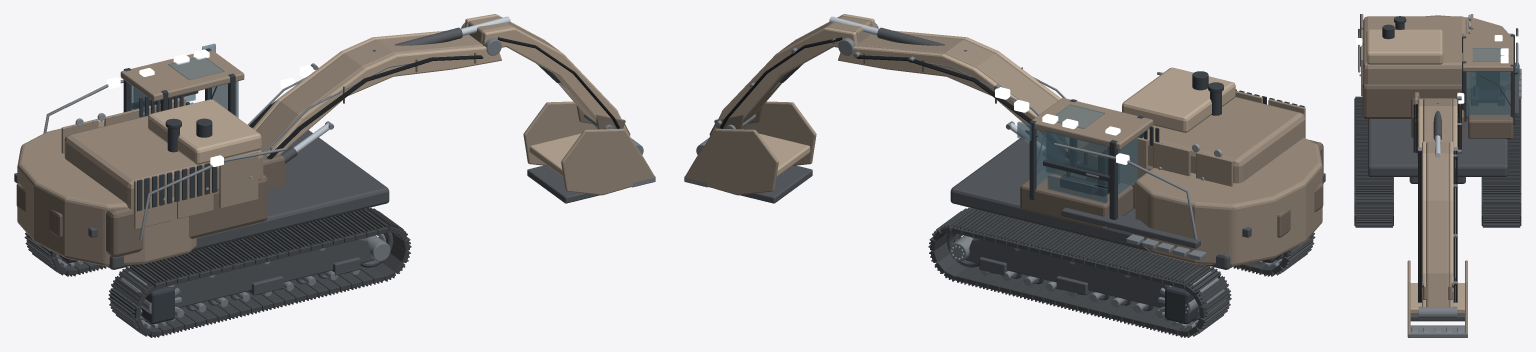
The model's file is john-deere-470-p-tier-structural-study.glb.
3 views of the same model, side by side, from view 1: azimuth 30°, elevation 25°; view 2: azimuth 150°, elevation 25°; view 3: azimuth 270°, elevation 25° (orthographic). The views are drawn at different scales.
Visible parts, largest first — view 1: Counterweight_8400kg_Shell, Upper_Main_Deck, Service_House_Upper, Boom_Box_Center_Web, Bucket_Side_Plate_R, Track_R_Box_Section_Frame, Cooling_Pack_Hood, Service_House_Lower, Boom_Box_Side_R, Cab_Roof, Arm_Box_Side_R, Bucket_Side_Plate_L (+16 smaller); view 2: Counterweight_8400kg_Shell, Service_House_Upper, Upper_Main_Deck, Bucket_Side_Plate_L, Track_L_Box_Section_Frame, Cooling_Pack_Hood, Boom_Box_Center_Web, Cab_Roof, Cab_Lower_Sill, Boom_Box_Side_L, Arm_Box_Side_L, Cab_Door_Upper_Glass (+21 smaller); view 3: Upper_Main_Deck, Service_House_Upper, Arm_Box_Center_Web, Cooling_Pack_Hood, Service_House_Lower, Cab_Front_Glass, Cab_Roof, Cab_Lower_Sill, Boom_Box_Center_Web, Arm_Box_Side_L, Arm_Box_Side_R, Bucket_Cutting_Edge (+37 smaller).
Part boxes in pixels (box(x1,y1,x2,y2)): Counterweight_8400kg_Shell: box(17, 121, 196, 266); Upper_Main_Deck: box(108, 130, 389, 269); Service_House_Upper: box(64, 115, 263, 209); Boom_Box_Center_Web: box(256, 34, 482, 151); Bucket_Side_Plate_R: box(561, 128, 654, 195); Track_R_Box_Section_Frame: box(173, 238, 374, 307); Cooling_Pack_Hood: box(148, 99, 261, 164); Service_House_Lower: box(106, 174, 267, 257); Boom_Box_Side_R: box(267, 46, 501, 155); Cab_Roof: box(120, 50, 244, 101); Arm_Box_Side_R: box(482, 27, 630, 138); Bucket_Side_Plate_L: box(523, 101, 595, 165); Counterweight_8400kg_Shell: box(1135, 138, 1322, 266); Service_House_Upper: box(1107, 97, 1305, 183); Upper_Main_Deck: box(950, 133, 1231, 269); Bucket_Side_Plate_L: box(685, 128, 778, 195); Track_L_Box_Section_Frame: box(965, 238, 1166, 307); Cooling_Pack_Hood: box(1122, 67, 1235, 132); Boom_Box_Center_Web: box(857, 34, 1088, 147); Cab_Roof: box(1030, 98, 1153, 149); Cab_Lower_Sill: box(1020, 168, 1133, 229); Boom_Box_Side_L: box(838, 46, 1067, 151); Arm_Box_Side_L: box(709, 27, 857, 138); Cab_Door_Upper_Glass: box(1045, 129, 1107, 186); Upper_Main_Deck: box(1368, 119, 1507, 176); Service_House_Upper: box(1363, 16, 1466, 84); Arm_Box_Center_Web: box(1426, 142, 1449, 307); Cooling_Pack_Hood: box(1366, 29, 1443, 64); Service_House_Lower: box(1362, 72, 1470, 118); Cab_Front_Glass: box(1466, 71, 1510, 114); Cab_Roof: box(1462, 33, 1513, 71); Cab_Lower_Sill: box(1468, 90, 1513, 139); Boom_Box_Center_Web: box(1423, 99, 1452, 142); Arm_Box_Side_L: box(1449, 141, 1453, 307); Arm_Box_Side_R: box(1422, 141, 1426, 307); Bucket_Cutting_Edge: box(1407, 325, 1467, 337).
Size of the model in its own units: 12.01 by 3.5 by 3.79.
